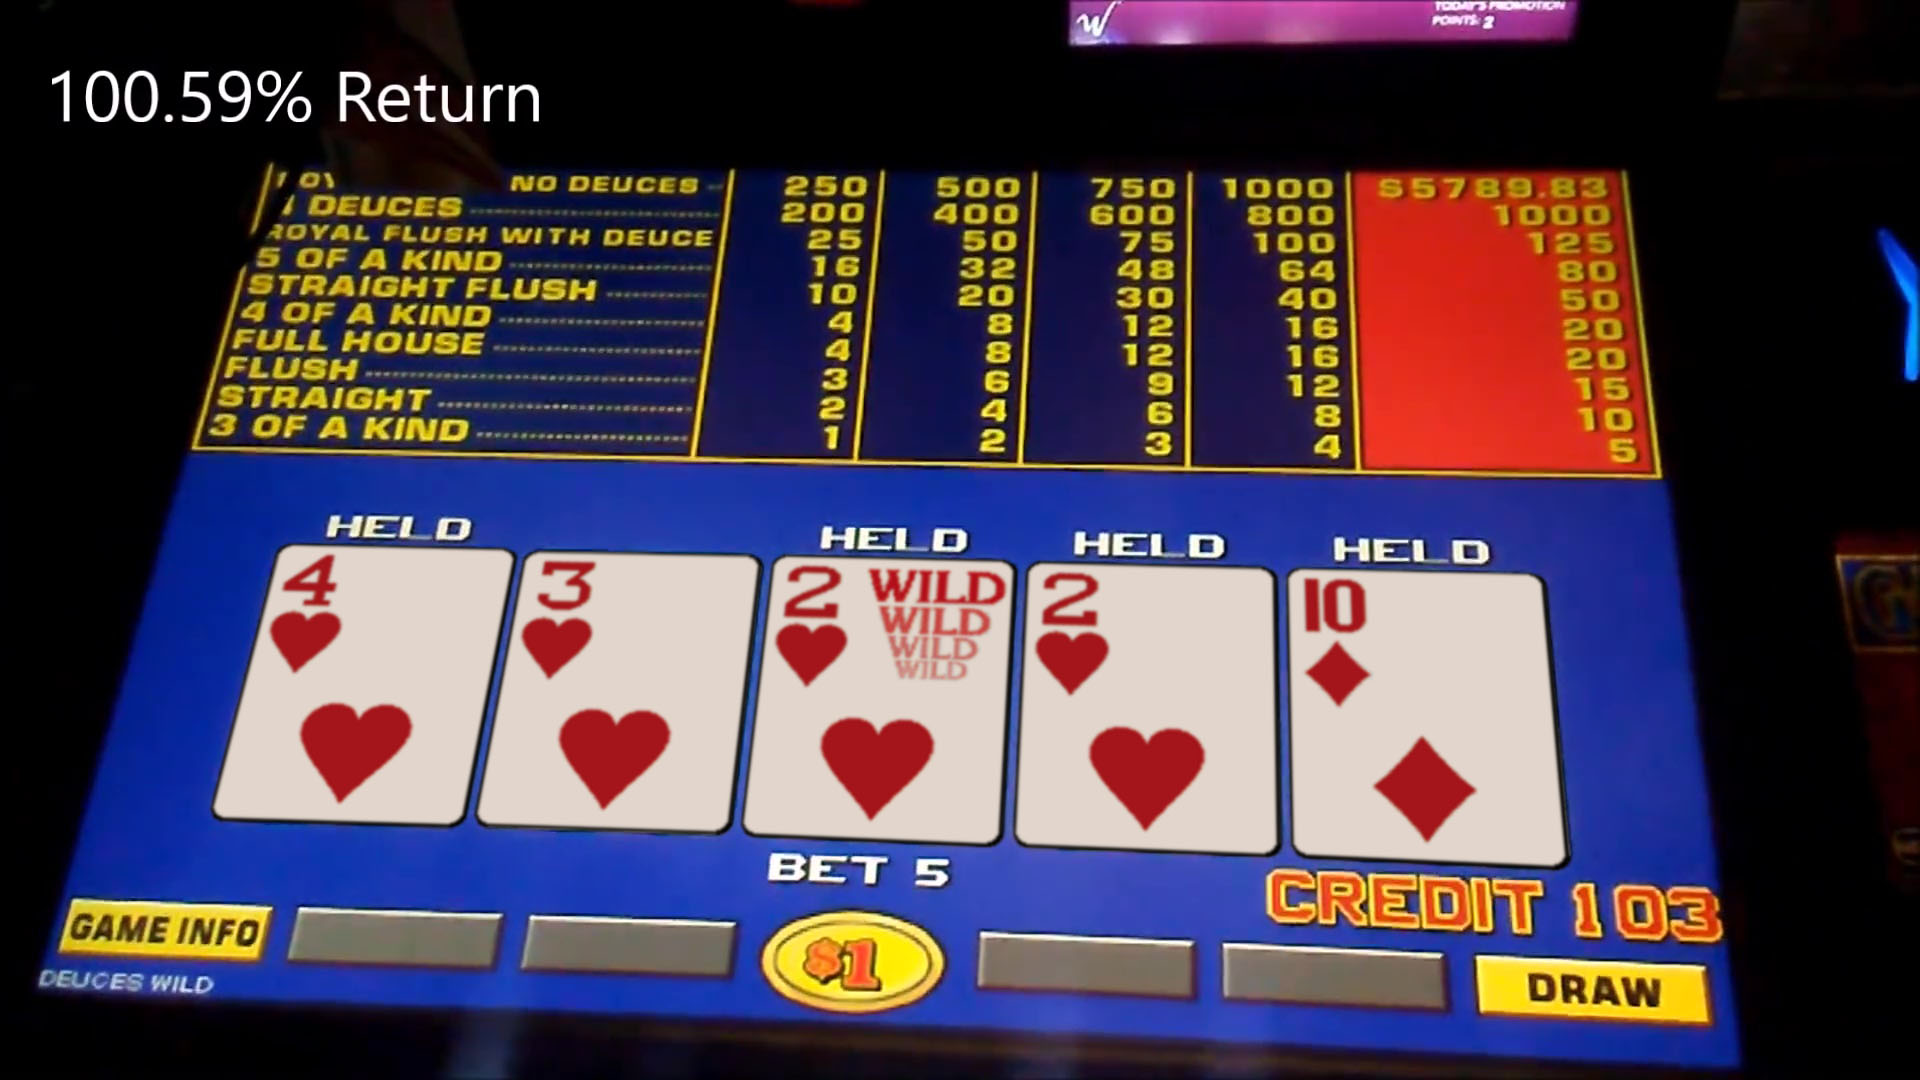DT: (1294, 575, 1540, 707)
H2: (1027, 566, 1270, 704)
H2W: (771, 558, 1007, 696)
H3: (520, 553, 745, 688)
H4: (265, 549, 491, 684)
